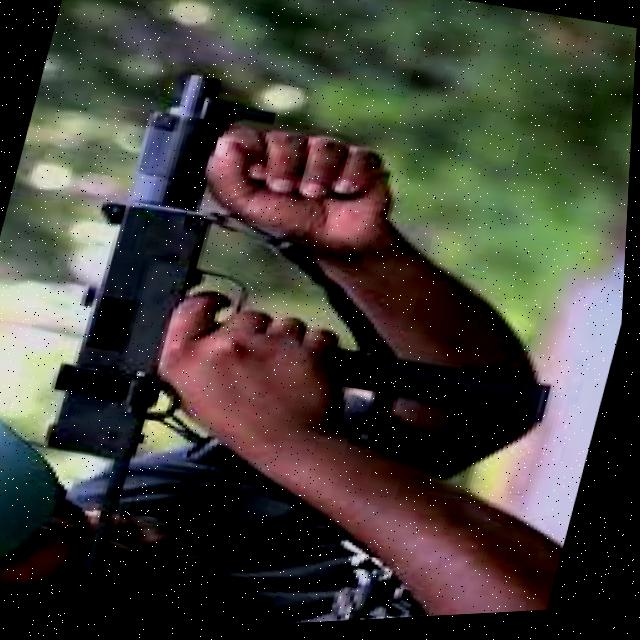firearm: (0, 42, 623, 639)
